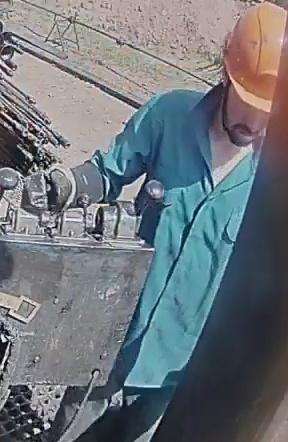gloves: (5, 160, 93, 216)
helmet: (222, 2, 287, 113)
vest: (132, 86, 265, 425)
